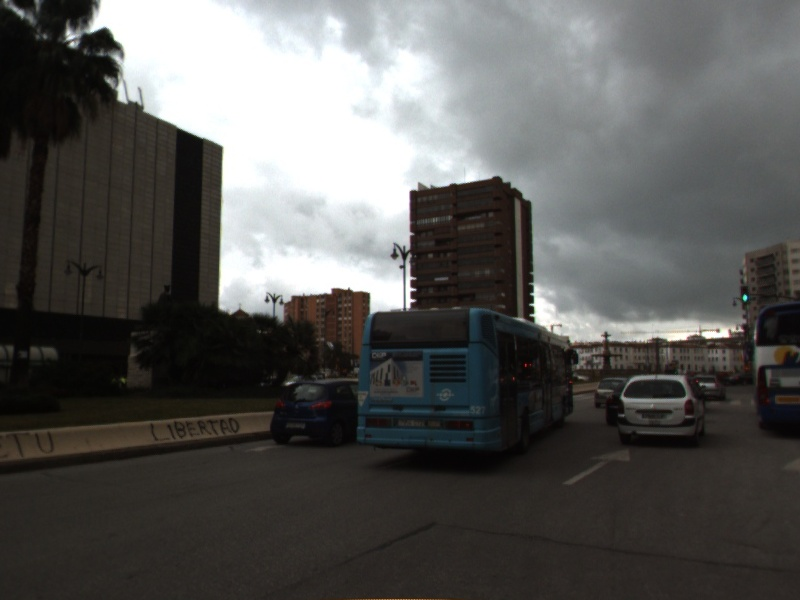STRAIGHT: (560, 447, 633, 487)
